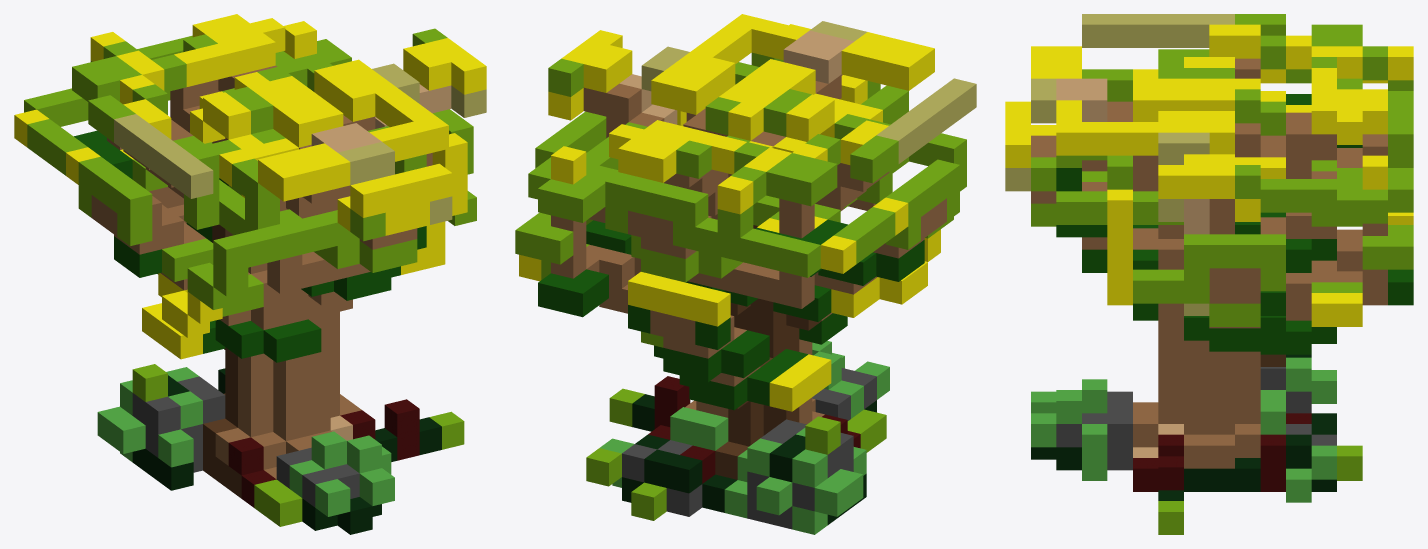
Rendered from Anne_Catalina_Galvis_Carvajal_fase_3.obj.
3 views of the same model, side by side, from view 1: azimuth 30°, elevation 25°; view 2: azimuth 150°, elevation 25°; view 3: azimuth 270°, elevation 25° (orthographic).
Parts seen in each view (by area): view 1: Anne_Catalina_Galvis_Carvajal_fase_3; view 2: Anne_Catalina_Galvis_Carvajal_fase_3; view 3: Anne_Catalina_Galvis_Carvajal_fase_3.
Boxes of the visible parts, x1,y1,x2,y2 form: Anne_Catalina_Galvis_Carvajal_fase_3: (14,14,486,534); Anne_Catalina_Galvis_Carvajal_fase_3: (515,14,976,534); Anne_Catalina_Galvis_Carvajal_fase_3: (1005,14,1413,534).
Bounding box in the file's own units: 16 × 16 × 16.
Materials: 1 (1 with a texture image).
